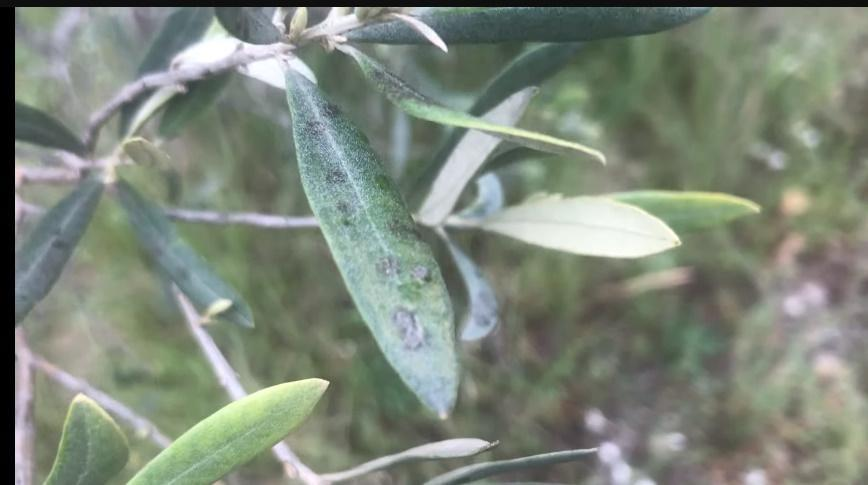OlivePeacockSpot: (282, 64, 464, 420), (342, 45, 606, 166), (112, 186, 260, 330), (443, 232, 500, 342)
